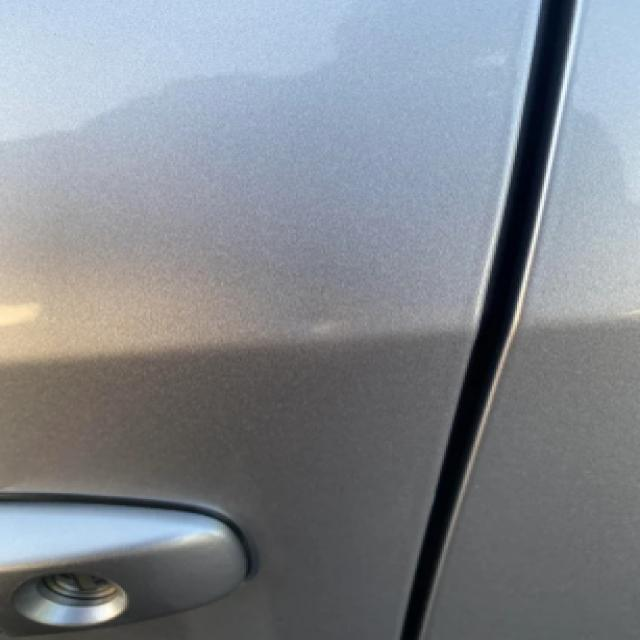dents: (269, 281, 426, 394)
